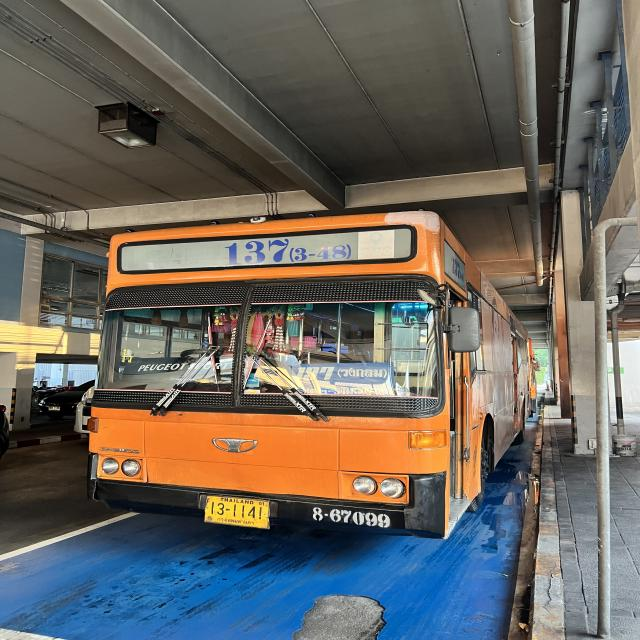BMTA-bus: (83, 212, 535, 540)
Bus-Line-Number: (222, 238, 358, 268)
Destination-Sign-Normal: (291, 365, 393, 394)
